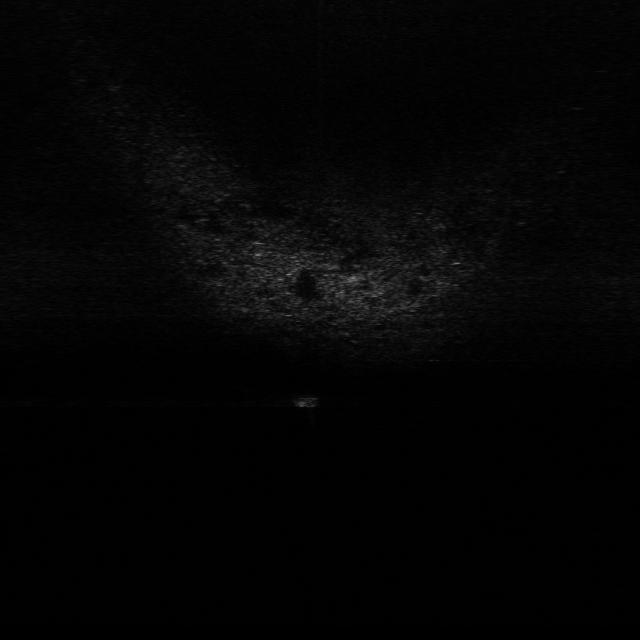cube: (287, 391, 323, 409)
